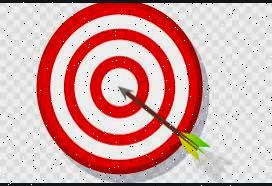target_red: (35, 2, 209, 179)
